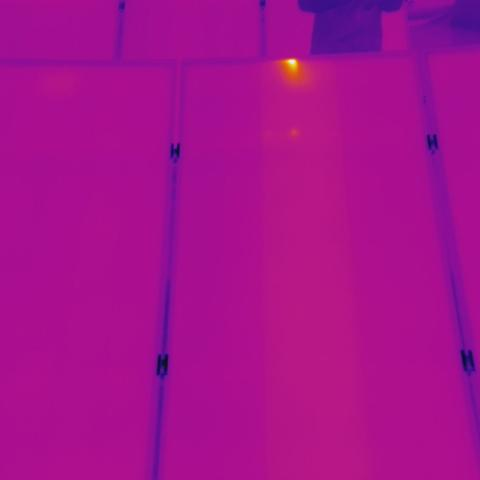fault: (279, 52, 305, 78)
